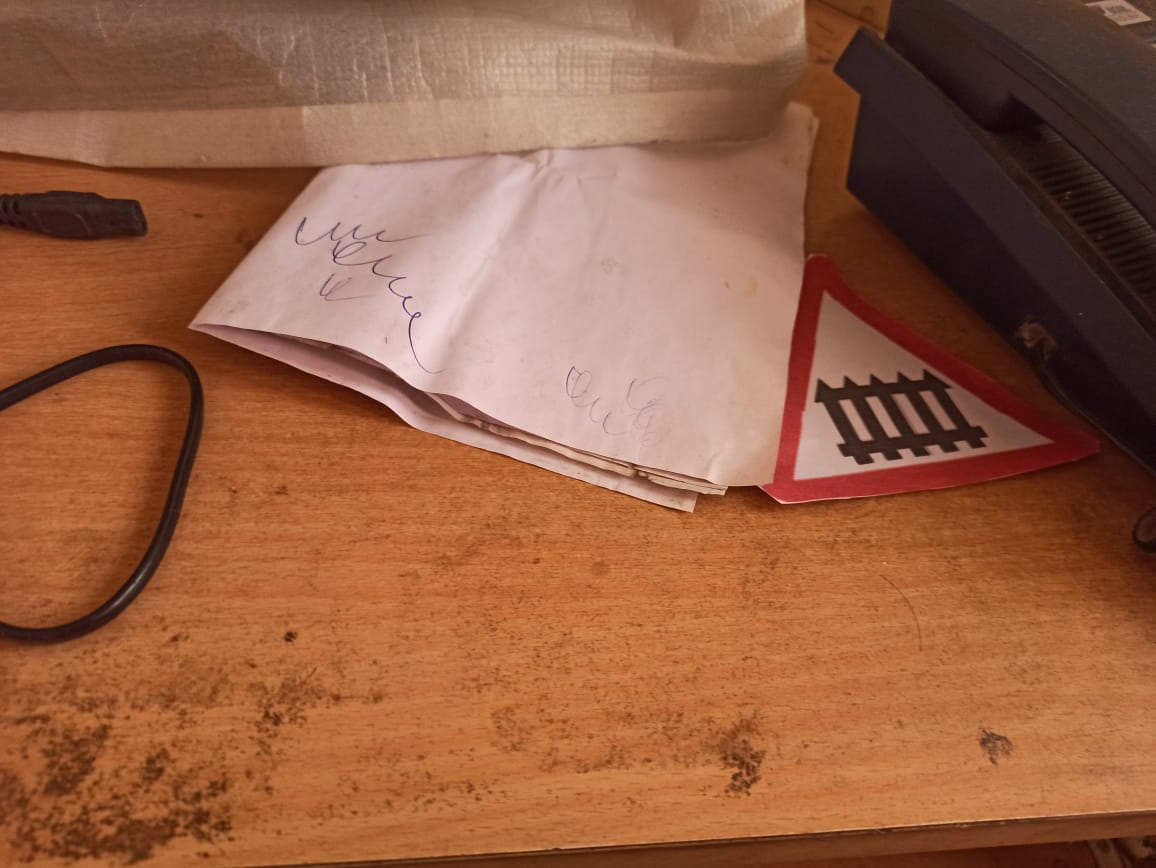GUARDED LEVEL CROSSING: (768, 238, 1097, 517)
